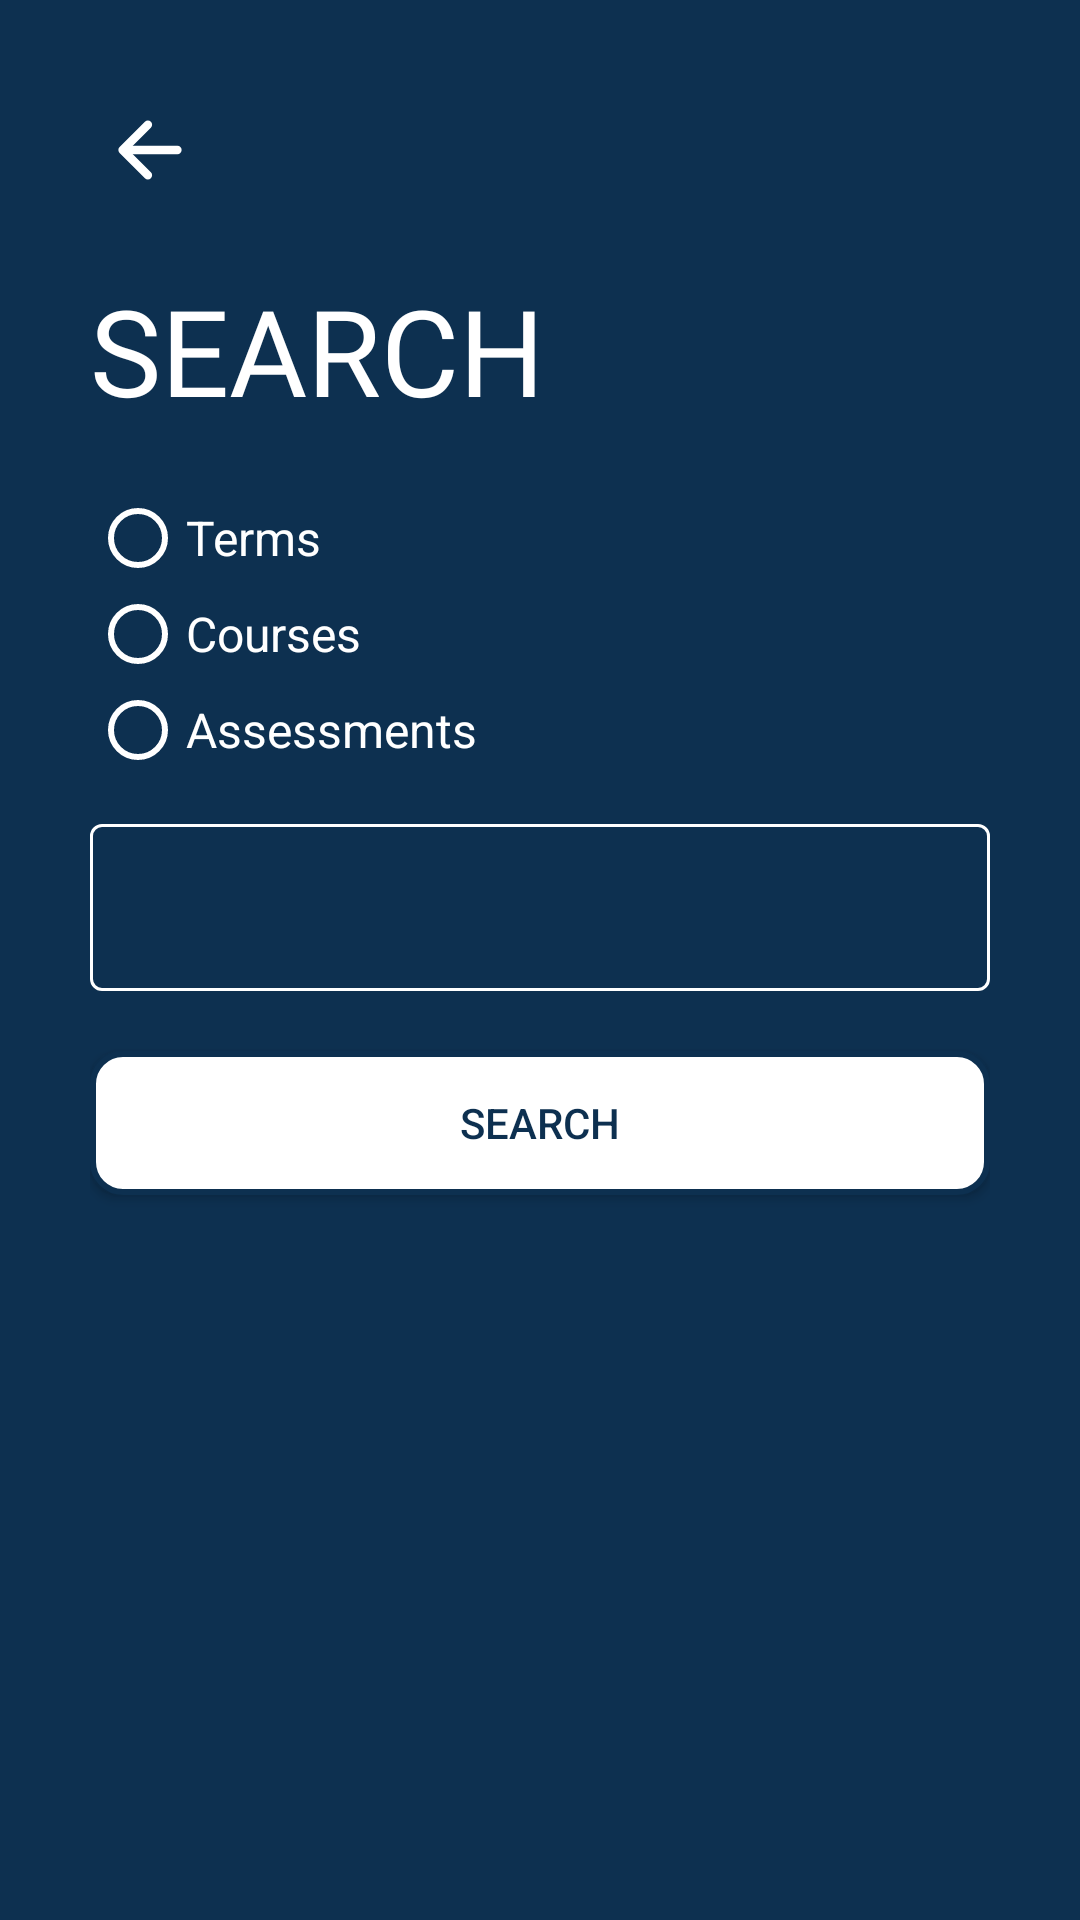

Point at icon controls on the screen. Image size 1080 x 1920, points as (x=x, y=y).
arrow back: (x=150, y=150)
